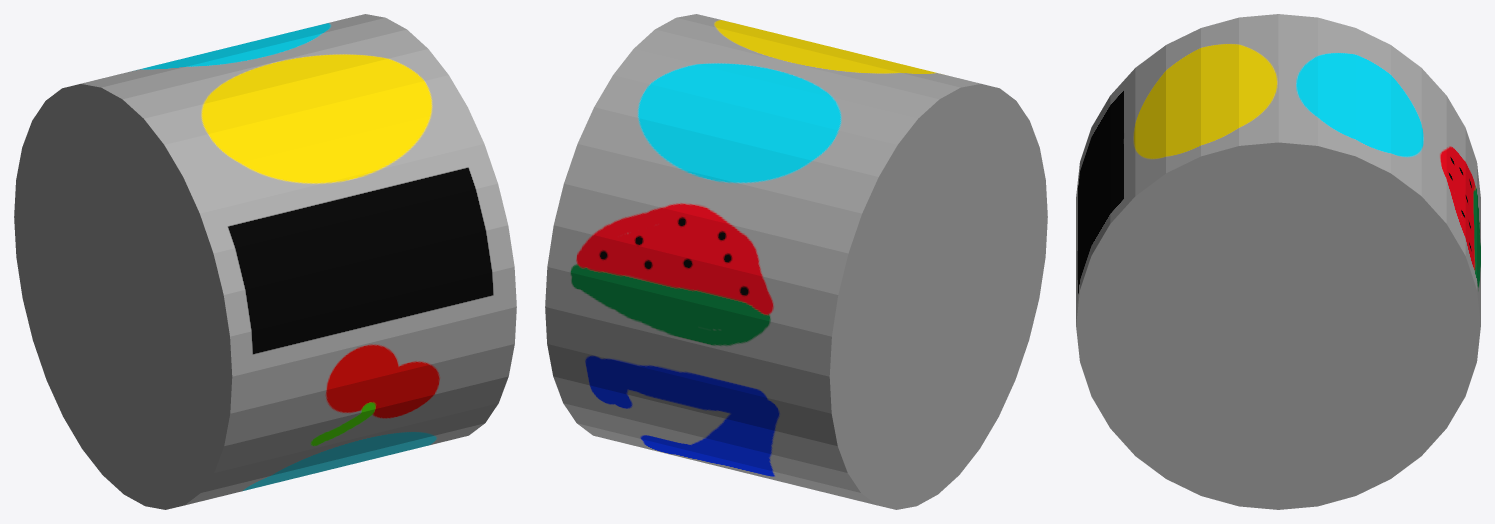
File: Reel3.obj
3 views of the same model, side by side, from view 1: azimuth 30°, elevation 25°; view 2: azimuth 150°, elevation 25°; view 3: azimuth 270°, elevation 25° (orthographic). The views are drawn at different scales.
Visible parts, largest first — view 1: 円柱; view 2: 円柱; view 3: 円柱.
Boxes of the visible parts, x1=… form: 円柱: x1=14, y1=14, x2=516, y2=509; 円柱: x1=545, y1=14, x2=1047, y2=509; 円柱: x1=1076, y1=14, x2=1480, y2=509.
Bounding box in the file's own units: 4.02 × 5.31 × 5.31.
